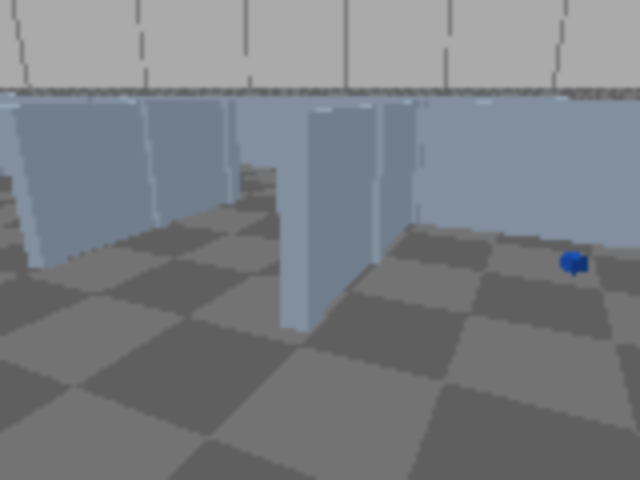puck: (560, 252, 589, 274)
